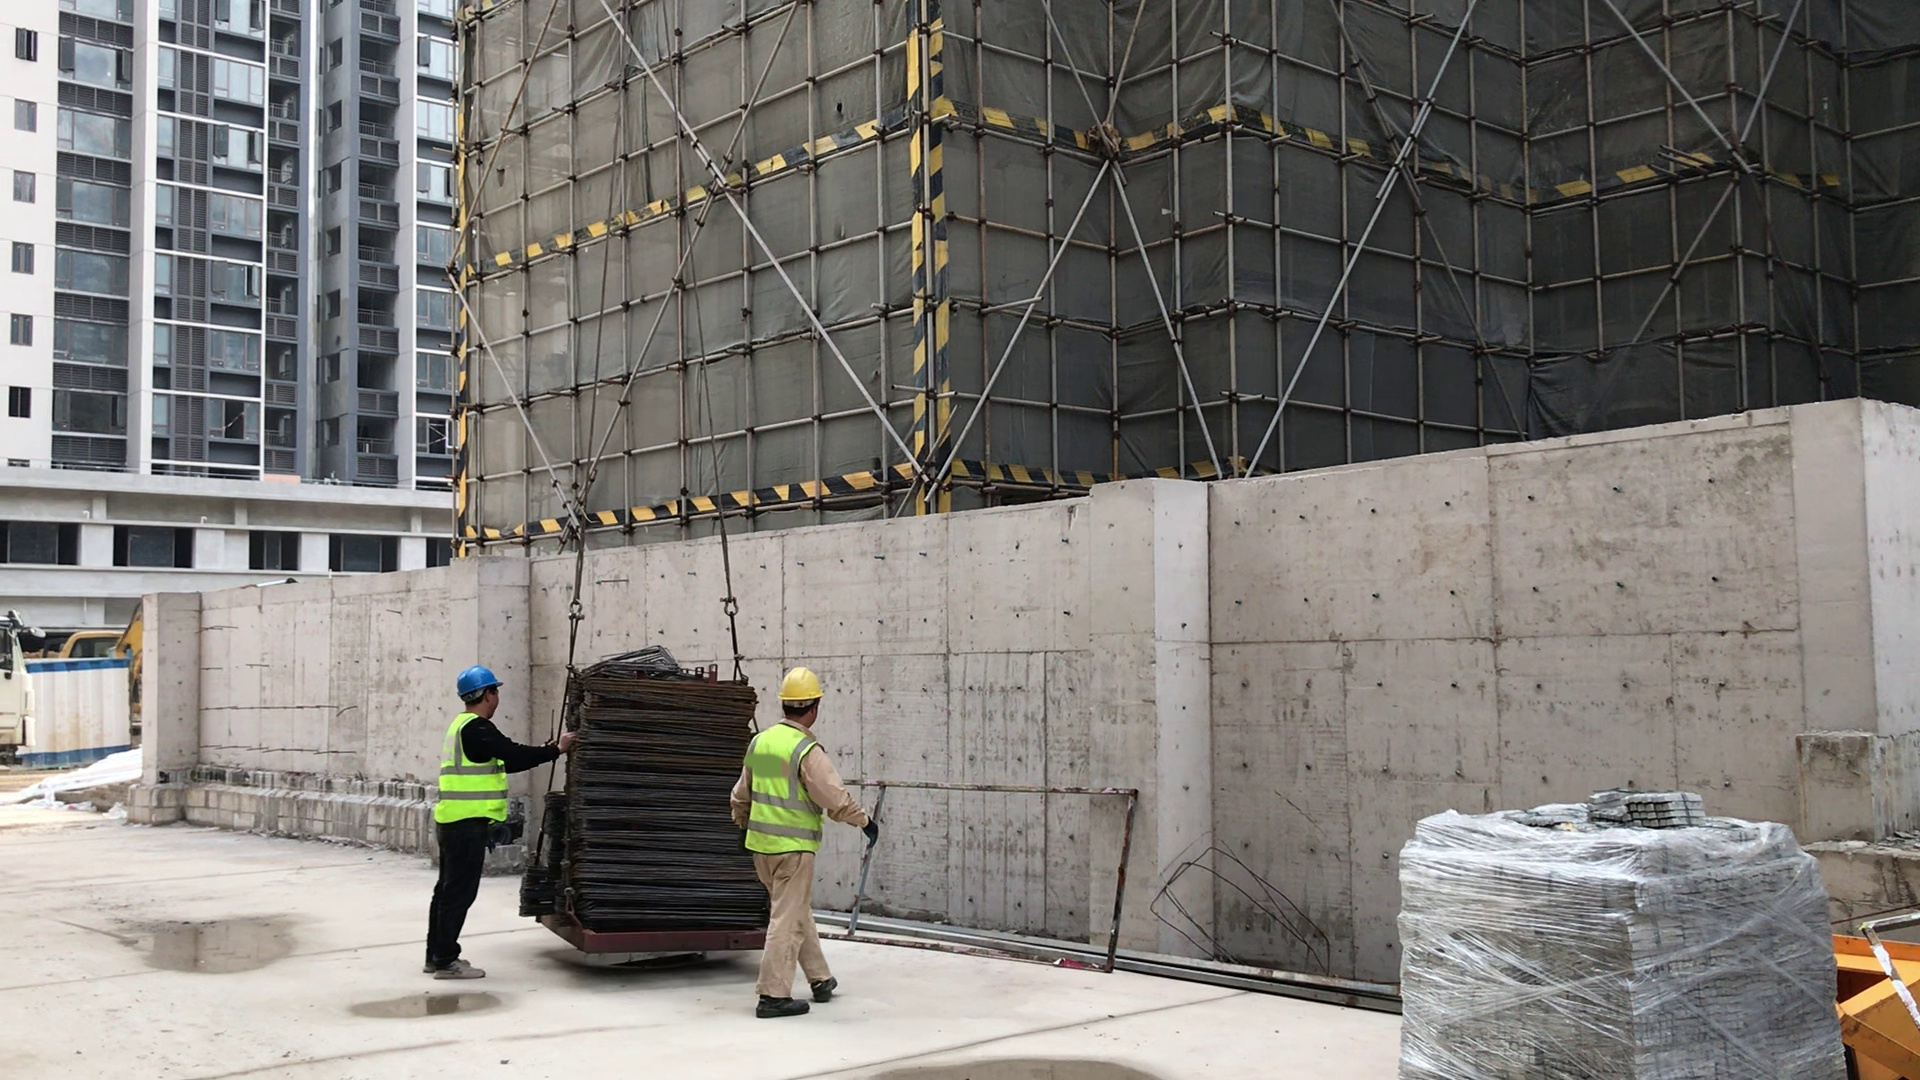helmet: (765, 664, 832, 705), (459, 653, 504, 710)
person: (739, 653, 857, 1023), (429, 665, 529, 978)
vest: (746, 726, 865, 855), (432, 715, 538, 842)
